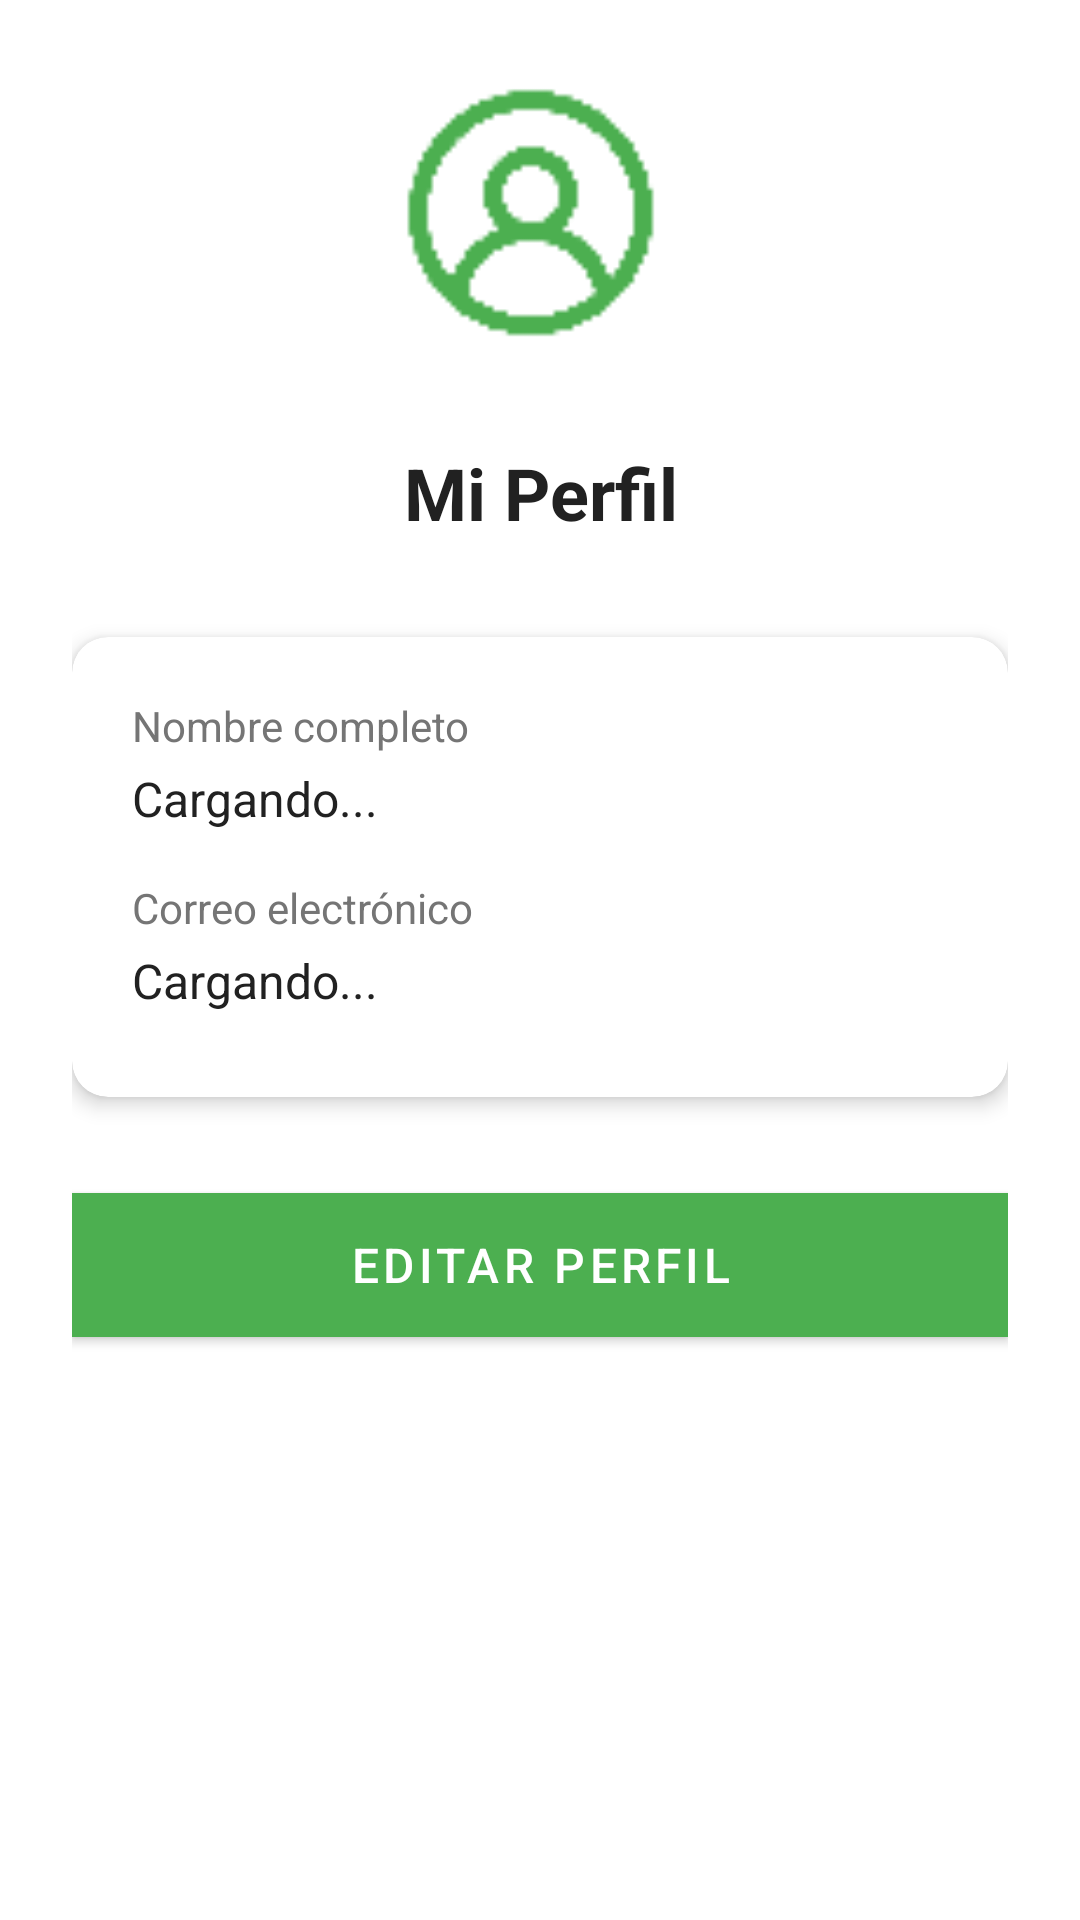

Named icons in this screenshot (1080px×1920px) and their bounding boxes, (x1, y1, x2, y2):
profile: (407, 89, 654, 336)
